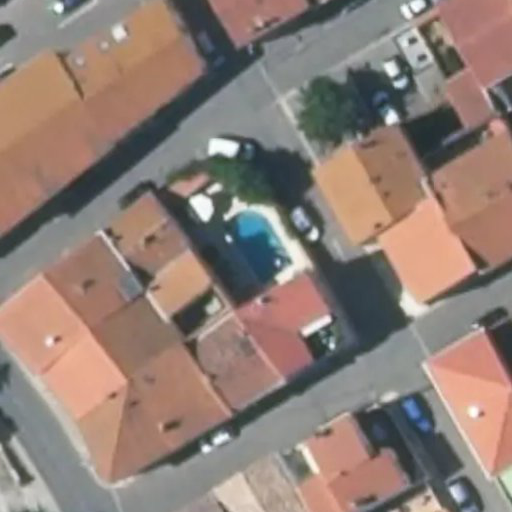pool: (226, 207, 299, 287)
